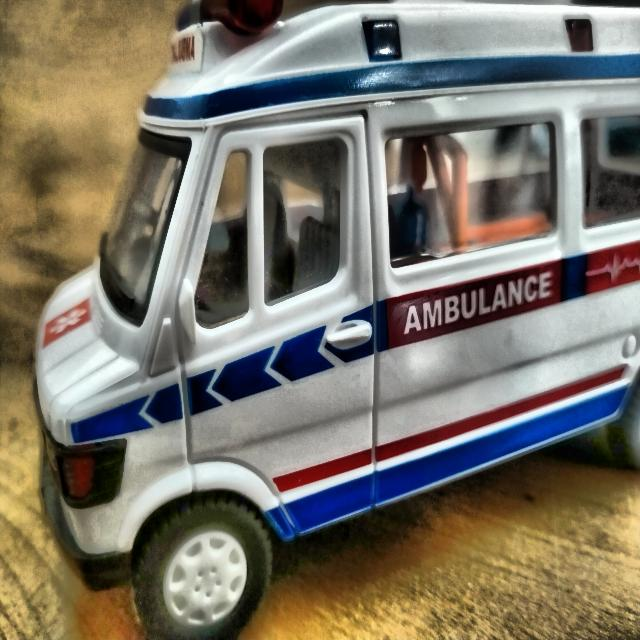Ambulance: (21, 4, 640, 629)
